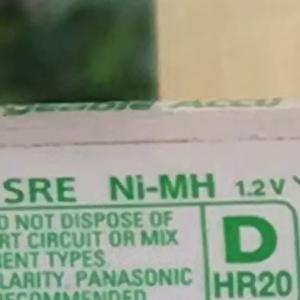keyword: (101, 165, 223, 209)
